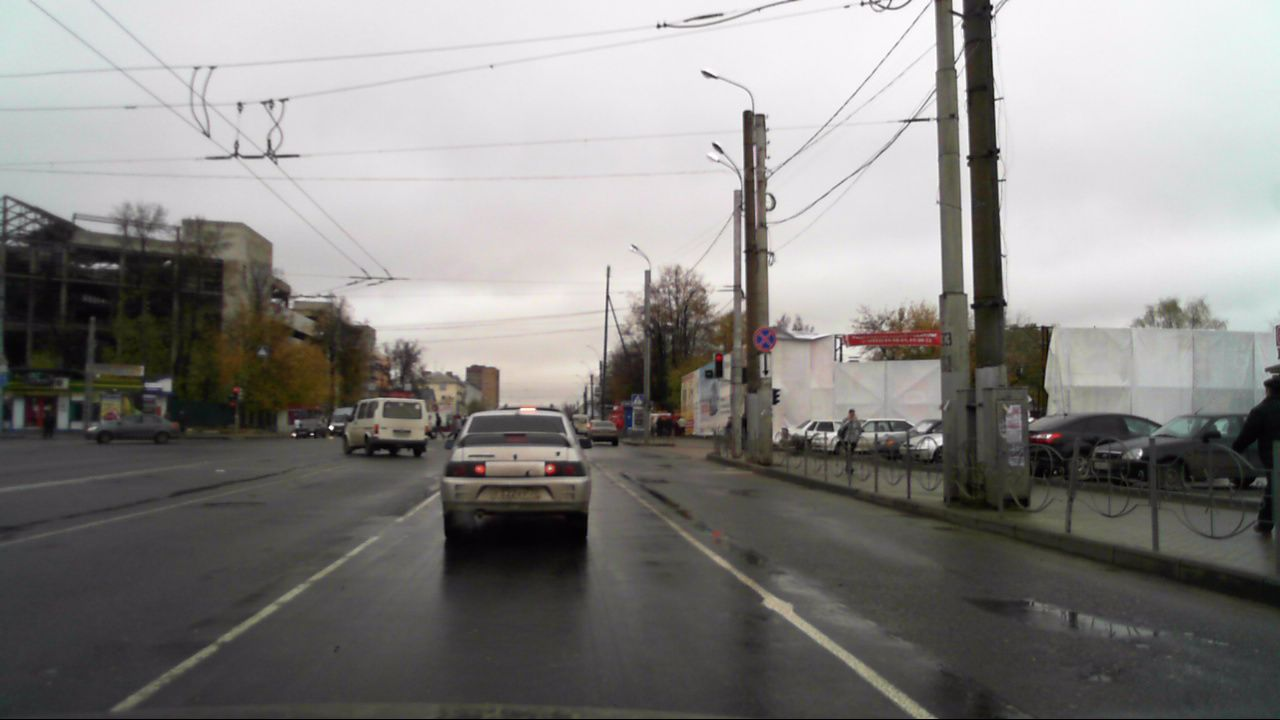No Parking: (751, 326, 777, 351)
